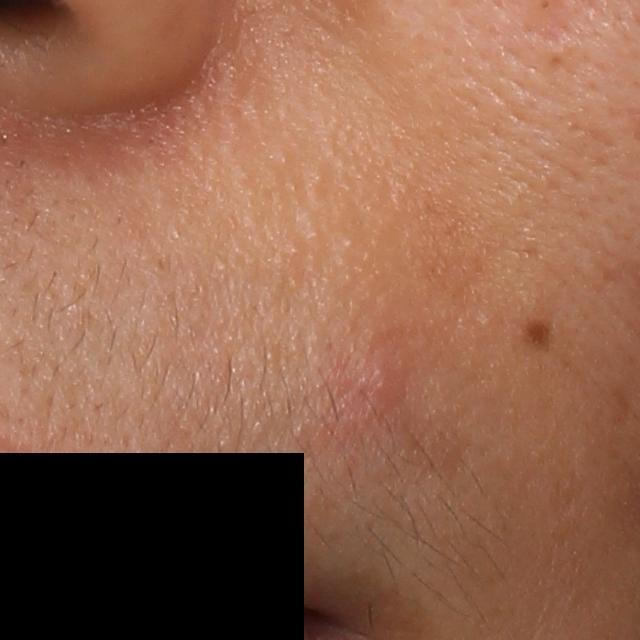nevus: (523, 318, 557, 352)
